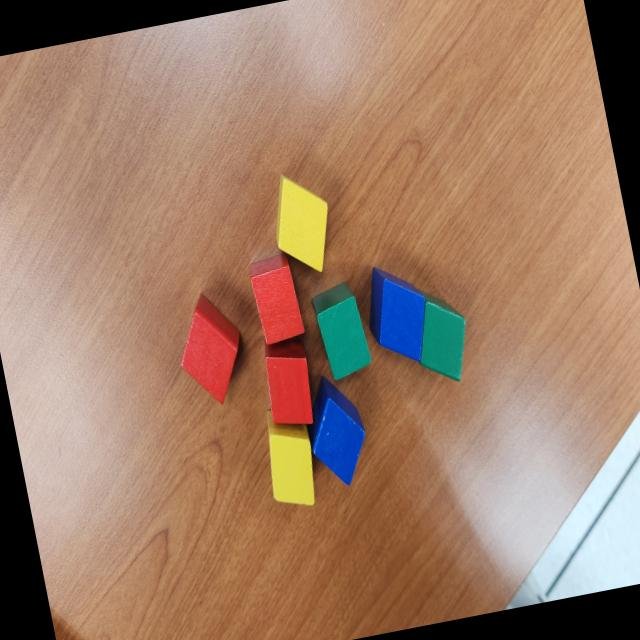blue: (298, 369, 376, 492), (360, 259, 438, 369)
green: (407, 287, 478, 388), (309, 279, 374, 383)
red: (170, 289, 253, 412), (258, 332, 320, 432), (243, 252, 307, 348)
yellow: (266, 168, 340, 278), (255, 402, 322, 512)
